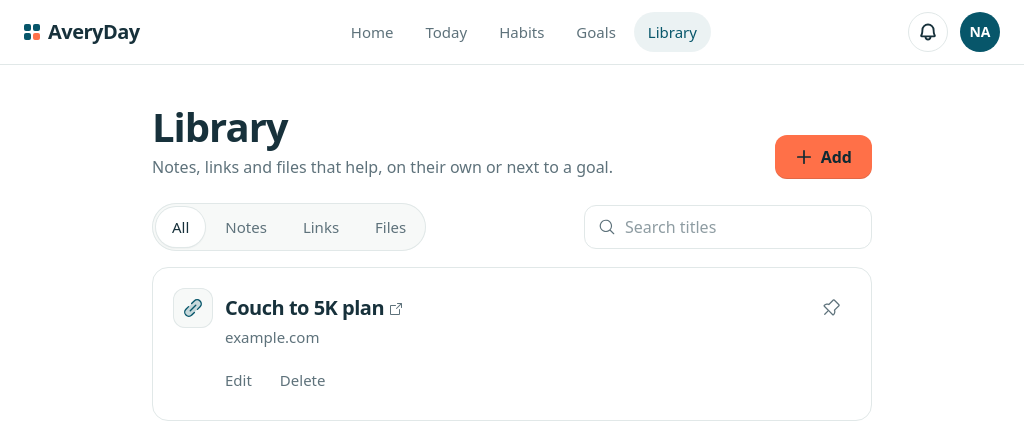
library › says when nothing matches a search
Type "zzz" into the search field labelled "Search titles" at (728, 227), box [584,205,872,249]
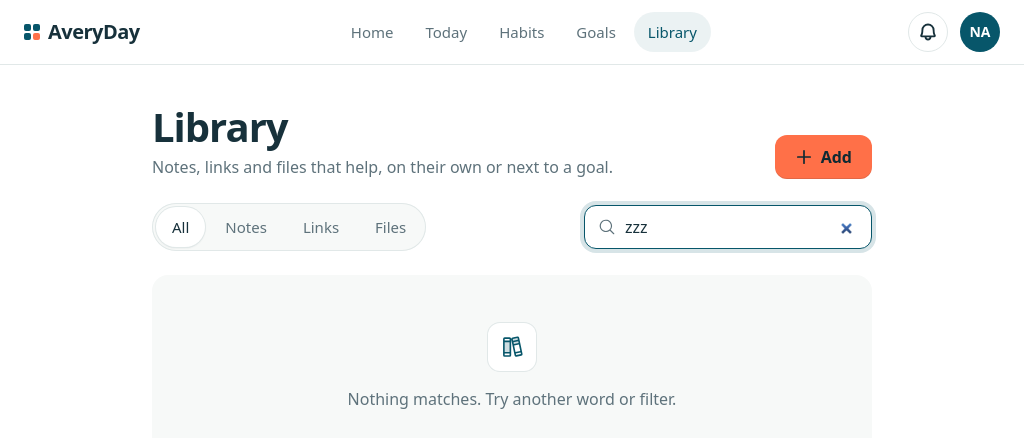
Now the text "Nothing matches. Try another word or filter." is shown, box [348,387,676,411]
